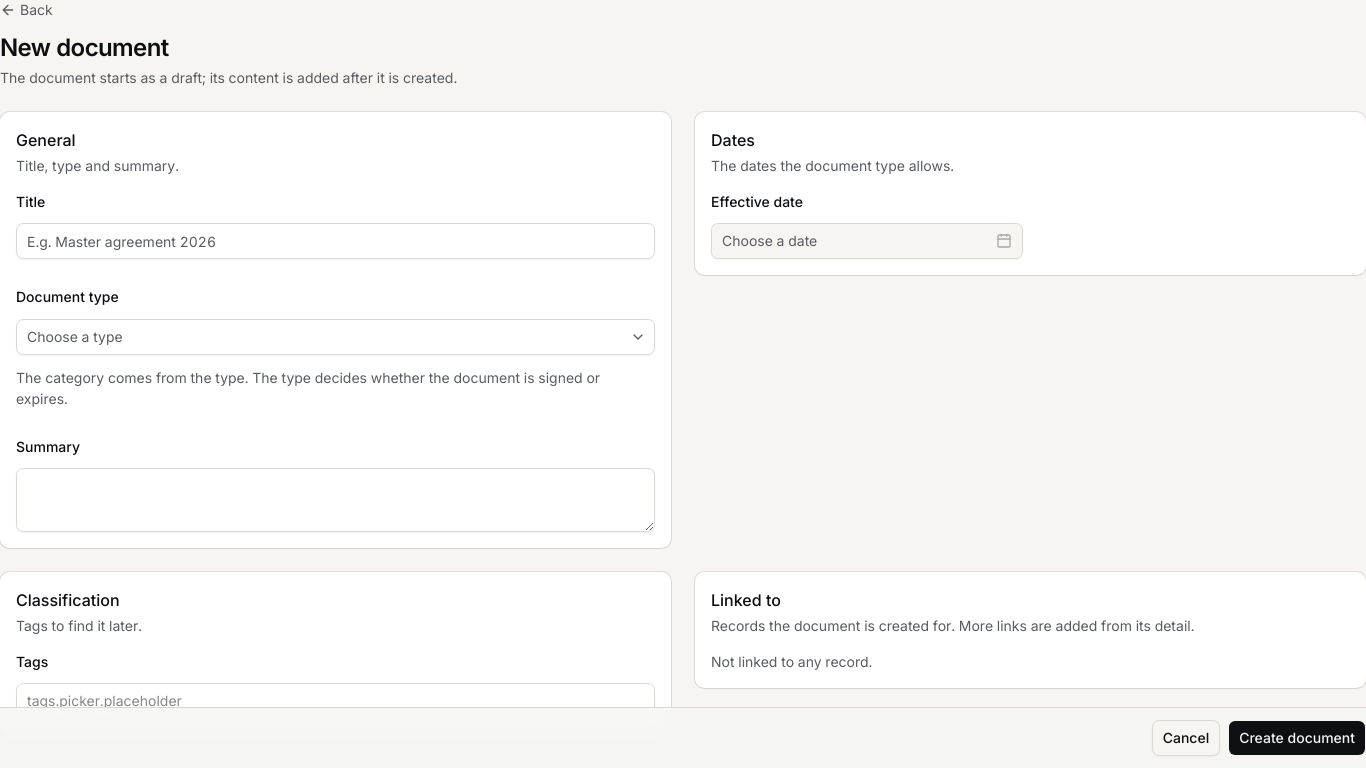
DocumentForm, create › puts the server's field errors on their fields
Type "Something" into the field labelled "Title" at [336, 241], box [16,223,655,259]
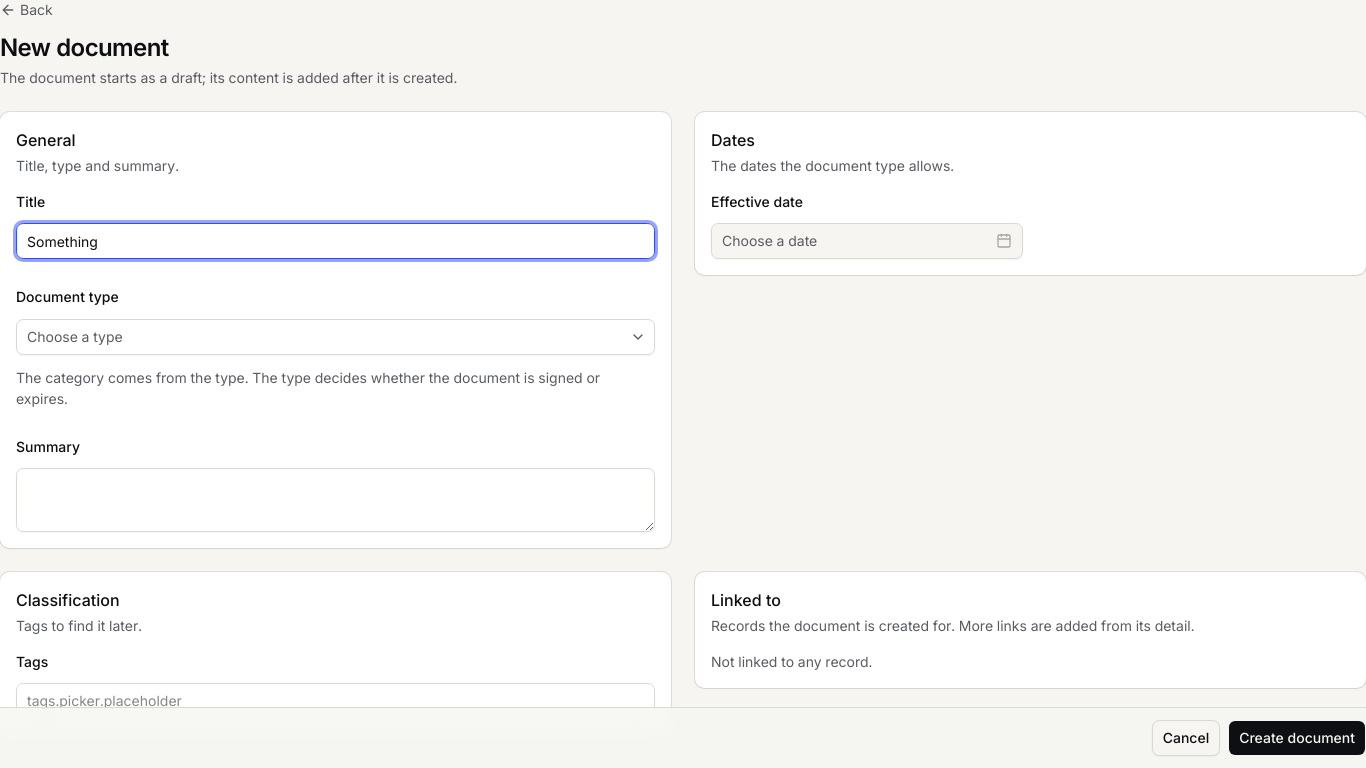
Click the dropdown named "Document type" at [75, 336], box [16,318,655,354]
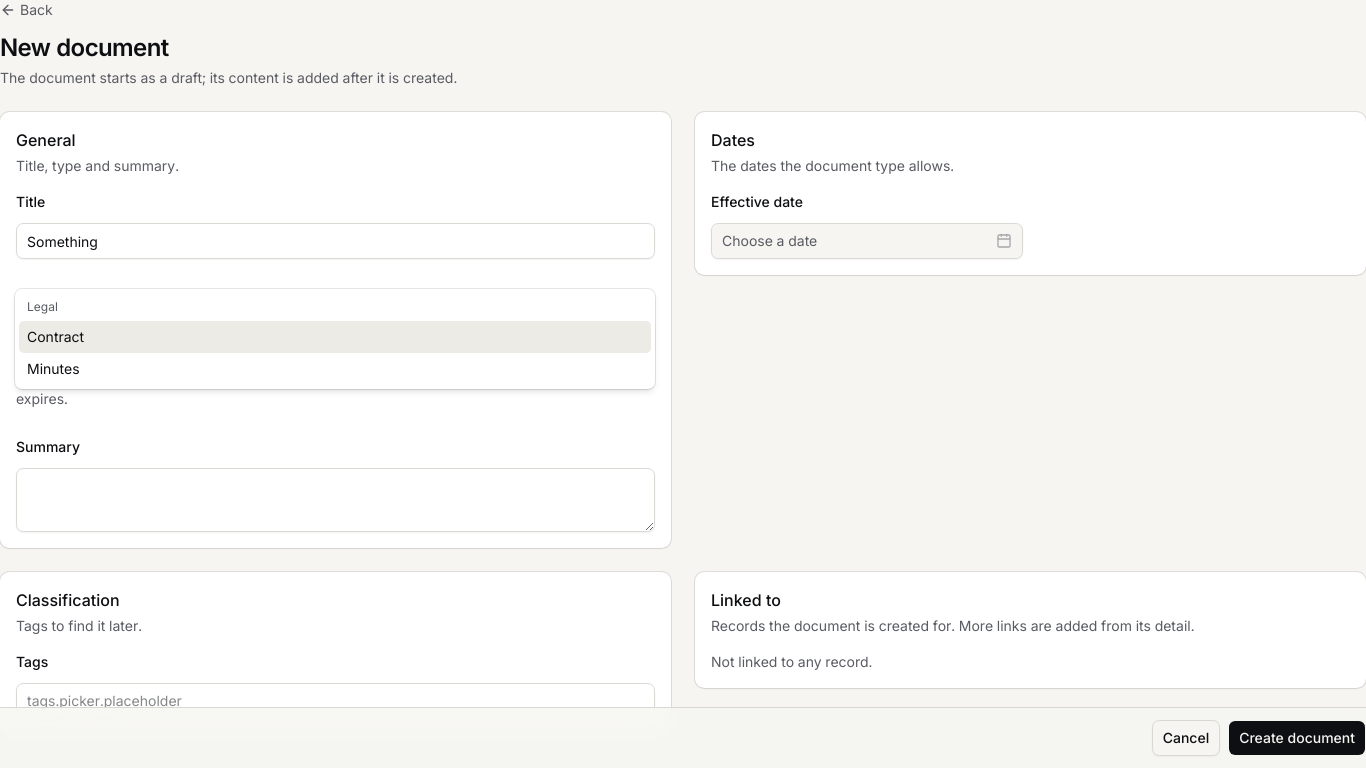
Click the option "Minutes" at [53, 368], box [27,360,80,376]
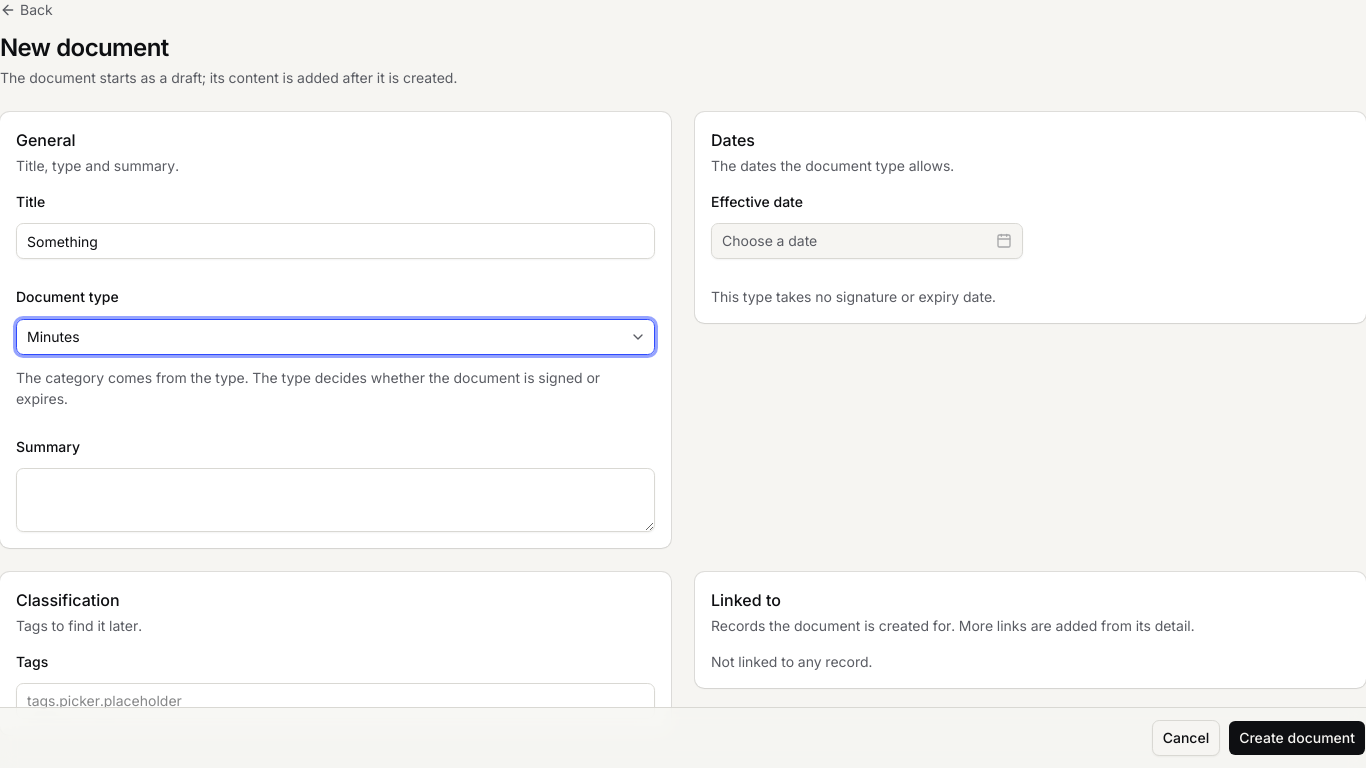
Click the button "Create document" at [1297, 738], box [1228,720,1365,756]
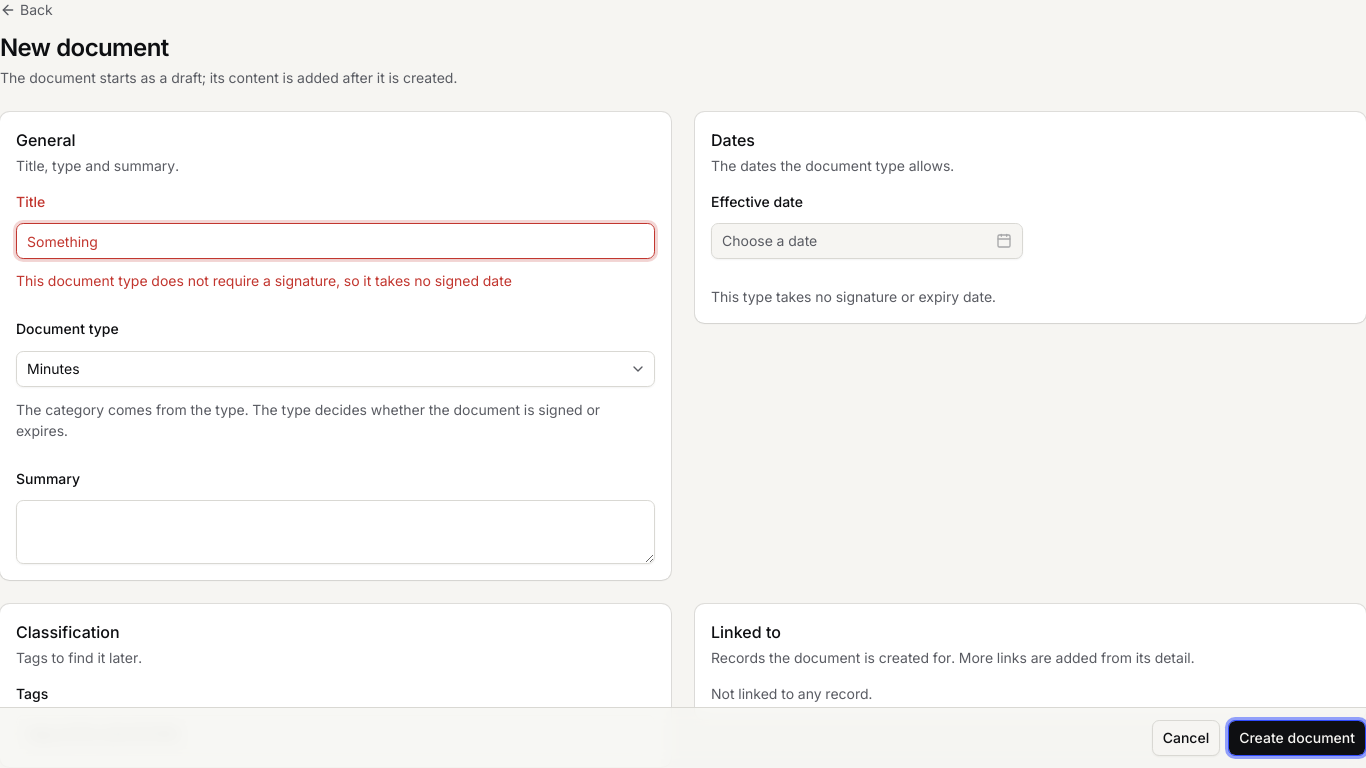
Expected: the text "This document type does not require a signature, so it takes no signed date" is shown, [16,272,512,289]
